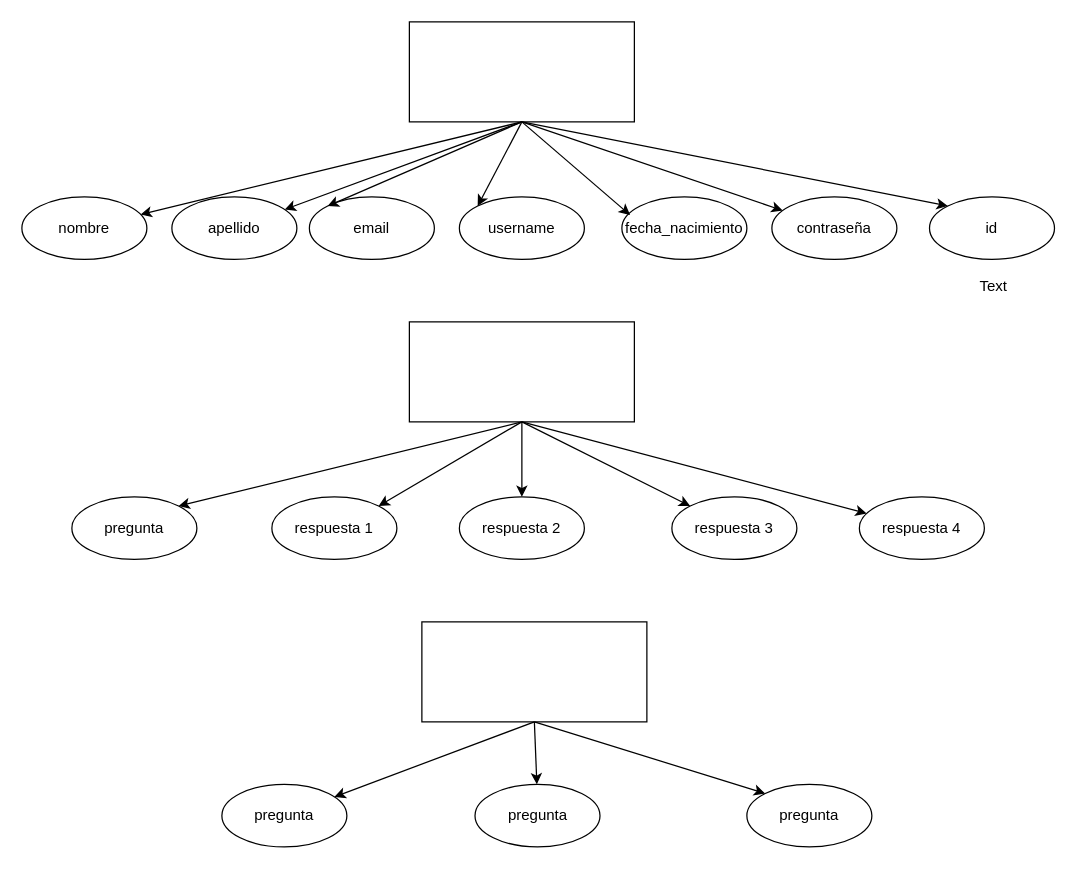
This 1078x869 diagram has some shape labels left out. Here are the shapes that lost their labels. From the top down, the centre of each, then its label:
the point at 521,71: Usuario
the point at 521,371: ABM
the point at 534,671: Contacto
